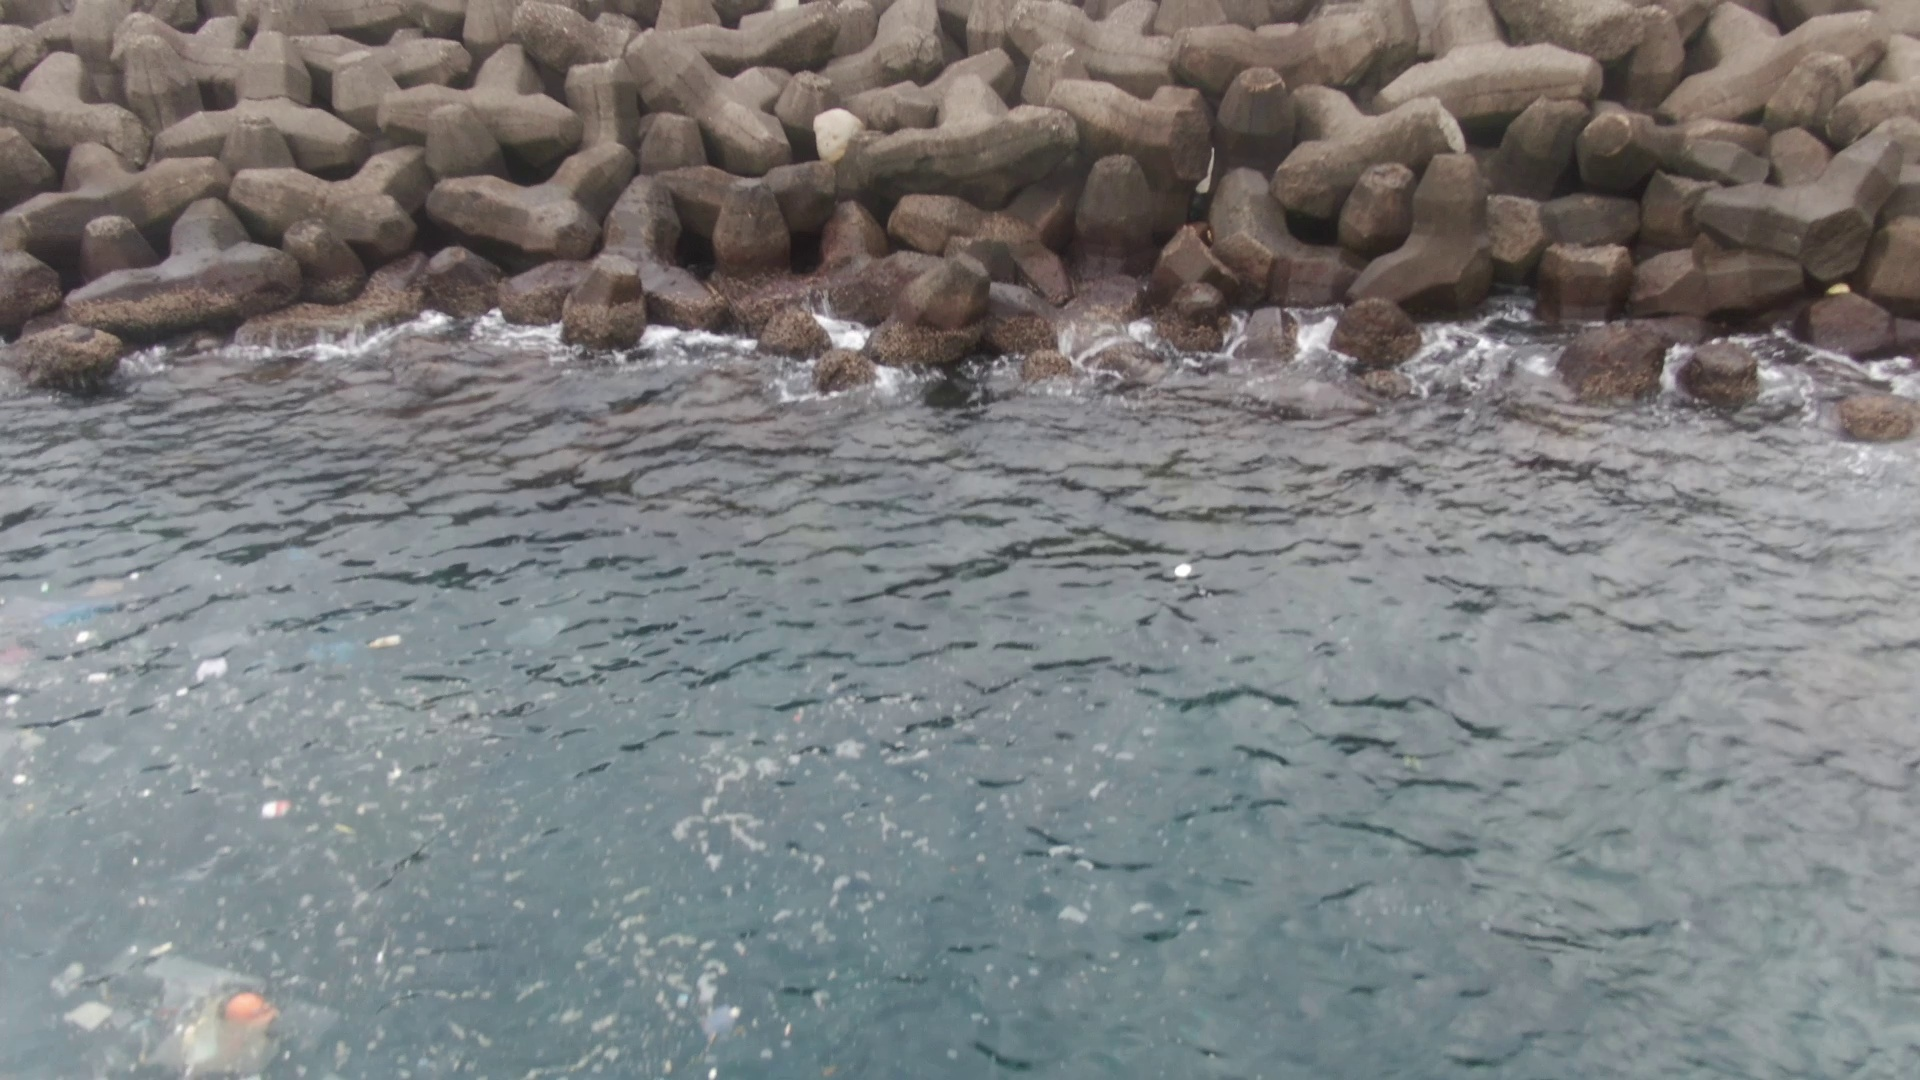garbage: (207, 978, 293, 1047)
